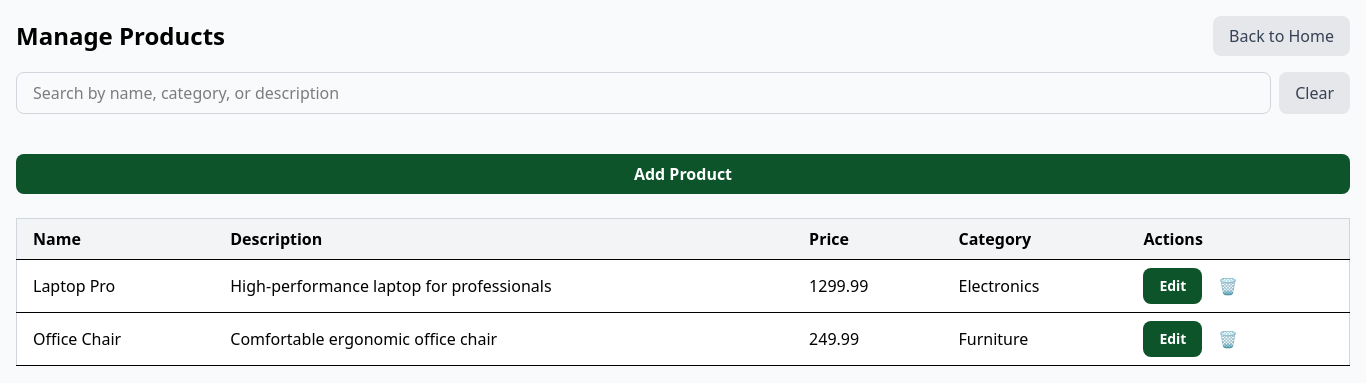
Scenario: ProductsPage › should search products by name
This screenshot has width=1366, height=383.
Expected: the text "Laptop Pro" is shown, 16,260 -> 214,312
Expected: the text "Office Chair" is shown, 16,312 -> 214,366
Type "Laptop Pro" into the field with test id "search-input". click: (644, 93)
box: 16,72 -> 1271,114
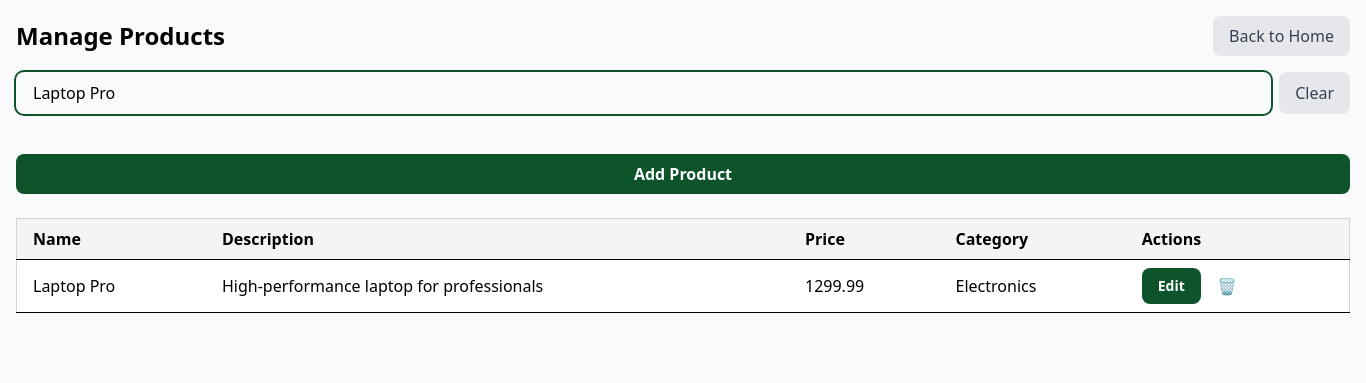
Expected: the text "Laptop Pro" is shown, 16,260 -> 206,312
Expected: the text "Office Chair" is gone
